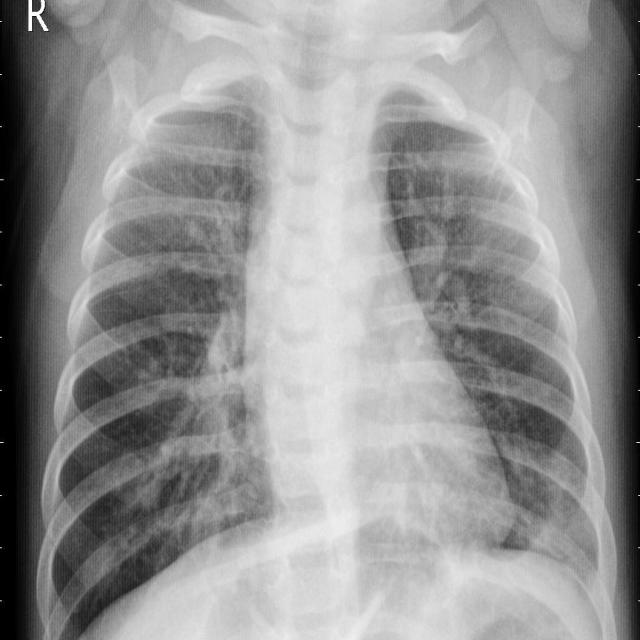low-pneumonia: (160, 308, 273, 551), (410, 141, 525, 372), (151, 126, 241, 280)
